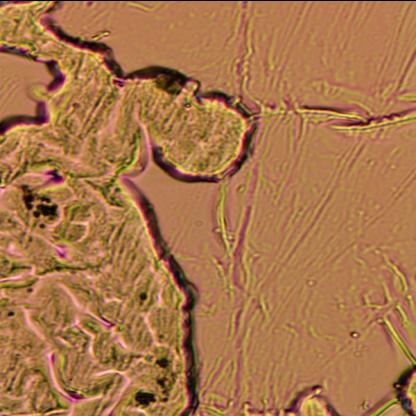Normal: (0, 0, 245, 414)
